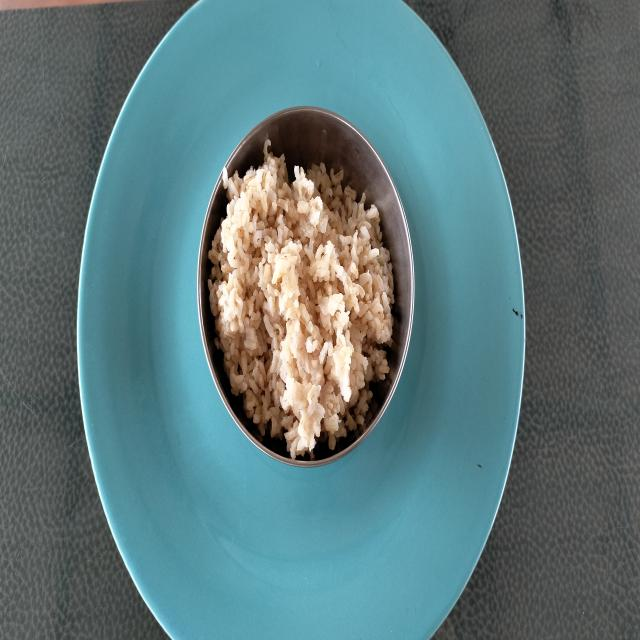brown-rice: (208, 144, 394, 459)
